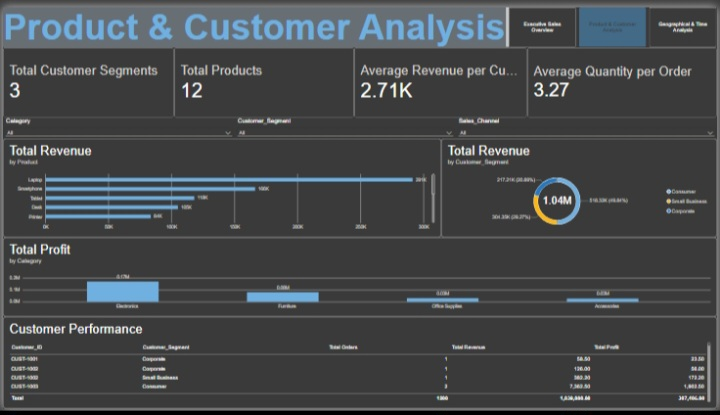

Layout of this report page (visuals, bound fields, positions):
{"tool":"powerbi","page":{"name":"Product & Customer Analysis","canvas":[1920,1080],"ordinal":1},"visuals":[{"type":"textbox","box":[0,0,1360.5,107.9],"z":0},{"type":"cardVisual","fields":{"Data":["Sales_Data.Total Customer Segments"]},"box":[0,107.9,460.5,189.5],"z":1},{"type":"cardVisual","fields":{"Data":["Sales_Data.Total Products"]},"box":[460.5,107.9,484.2,189.5],"z":2},{"type":"cardVisual","fields":{"Data":["Sales_Data.Average Revenue per Customer"]},"box":[944.7,107.9,465.8,189.5],"z":3},{"type":"cardVisual","fields":{"Data":["Sales_Data.Average Quantity per Order"]},"box":[1410.5,107.9,510.5,189.5],"z":4},{"type":"barChart","fields":{"Category":["Sales_Data.Product"],"Y":["Sales_Data.Total Revenue"]},"box":[0,352.6,1178.9,265.8],"z":5},{"type":"donutChart","fields":{"Category":["Sales_Data.Customer_Segment"],"Y":["Sales_Data.Total Revenue"]},"box":[1178.9,352.6,742.1,265.8],"z":6},{"type":"columnChart","fields":{"Category":["Sales_Data.Category"],"Y":["Sales_Data.Total Profit"]},"box":[0,618.4,1921.1,213.2],"z":7},{"type":"tableEx","title":"Customer Performance","fields":{"Values":["Sales_Data.Customer_ID","Sales_Data.Customer_Segment","Sales_Data.Total Orders","Sales_Data.Total Revenue","Sales_Data.Total Profit"]},"box":[0,831.6,1921.1,247.4],"z":8},{"type":"slicer","fields":{"Values":["Sales_Data.Category"]},"box":[0,297.4,623.7,55.3],"z":9},{"type":"slicer","fields":{"Values":["Sales_Data.Customer_Segment"]},"box":[623.7,297.4,594.7,55.3],"z":10},{"type":"slicer","fields":{"Values":["Sales_Data.Sales_Channel"]},"box":[1218.4,297.4,702.6,55.3],"z":11},{"type":"pageNavigator","box":[1360.5,0,560.5,107],"z":12}]}

Visuals, with their boxes in screenshot pixels (x1, y1, x2, y2), scaled from the page's 1920x1080 canvas onto the 720x415 screenshot:
textbox: {"left": 0, "top": 0, "right": 510, "bottom": 41}
cardVisual - Sales_Data.Total Customer Segments: {"left": 0, "top": 41, "right": 173, "bottom": 114}
cardVisual - Sales_Data.Total Products: {"left": 173, "top": 41, "right": 354, "bottom": 114}
cardVisual - Sales_Data.Average Revenue per Customer: {"left": 354, "top": 41, "right": 529, "bottom": 114}
cardVisual - Sales_Data.Average Quantity per Order: {"left": 529, "top": 41, "right": 719, "bottom": 114}
barChart - Sales_Data.Product x Sales_Data.Total Revenue: {"left": 0, "top": 135, "right": 442, "bottom": 238}
donutChart - Sales_Data.Customer_Segment x Sales_Data.Total Revenue: {"left": 442, "top": 135, "right": 719, "bottom": 238}
columnChart - Sales_Data.Category x Sales_Data.Total Profit: {"left": 0, "top": 238, "right": 719, "bottom": 320}
"Customer Performance" tableEx: {"left": 0, "top": 320, "right": 719, "bottom": 414}
slicer - Sales_Data.Category: {"left": 0, "top": 114, "right": 234, "bottom": 136}
slicer - Sales_Data.Customer_Segment: {"left": 234, "top": 114, "right": 457, "bottom": 136}
slicer - Sales_Data.Sales_Channel: {"left": 457, "top": 114, "right": 719, "bottom": 136}
pageNavigator: {"left": 510, "top": 0, "right": 719, "bottom": 41}
